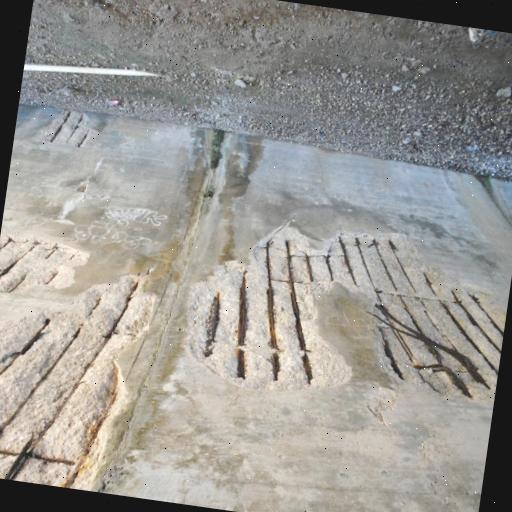spalling: (188, 225, 498, 400), (0, 276, 158, 488), (0, 232, 97, 293), (36, 105, 102, 156)
